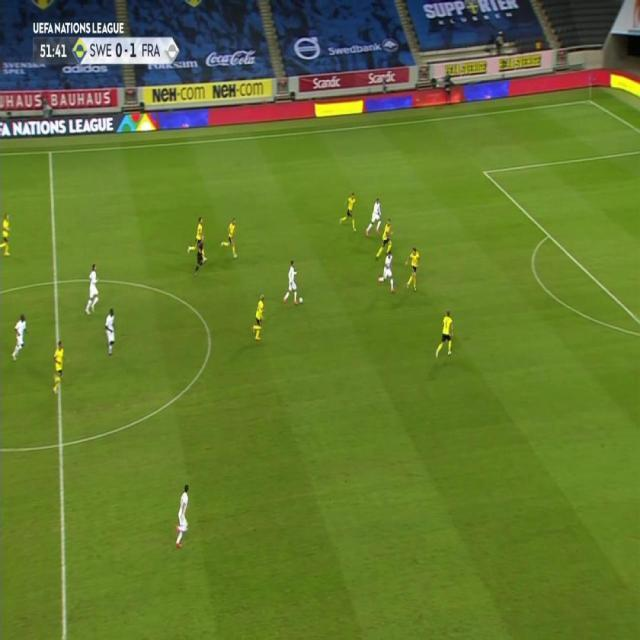ball: (298, 295, 304, 305)
player: (173, 484, 192, 549), (434, 307, 455, 360), (10, 311, 30, 362), (50, 339, 67, 396), (282, 258, 302, 306), (84, 263, 101, 316), (220, 215, 240, 259), (338, 190, 359, 231), (377, 247, 396, 292), (364, 196, 383, 238), (376, 217, 395, 259), (250, 293, 266, 342), (404, 246, 421, 292), (103, 307, 117, 357), (187, 216, 204, 254), (0, 212, 14, 257)
referee: (193, 235, 209, 276)
